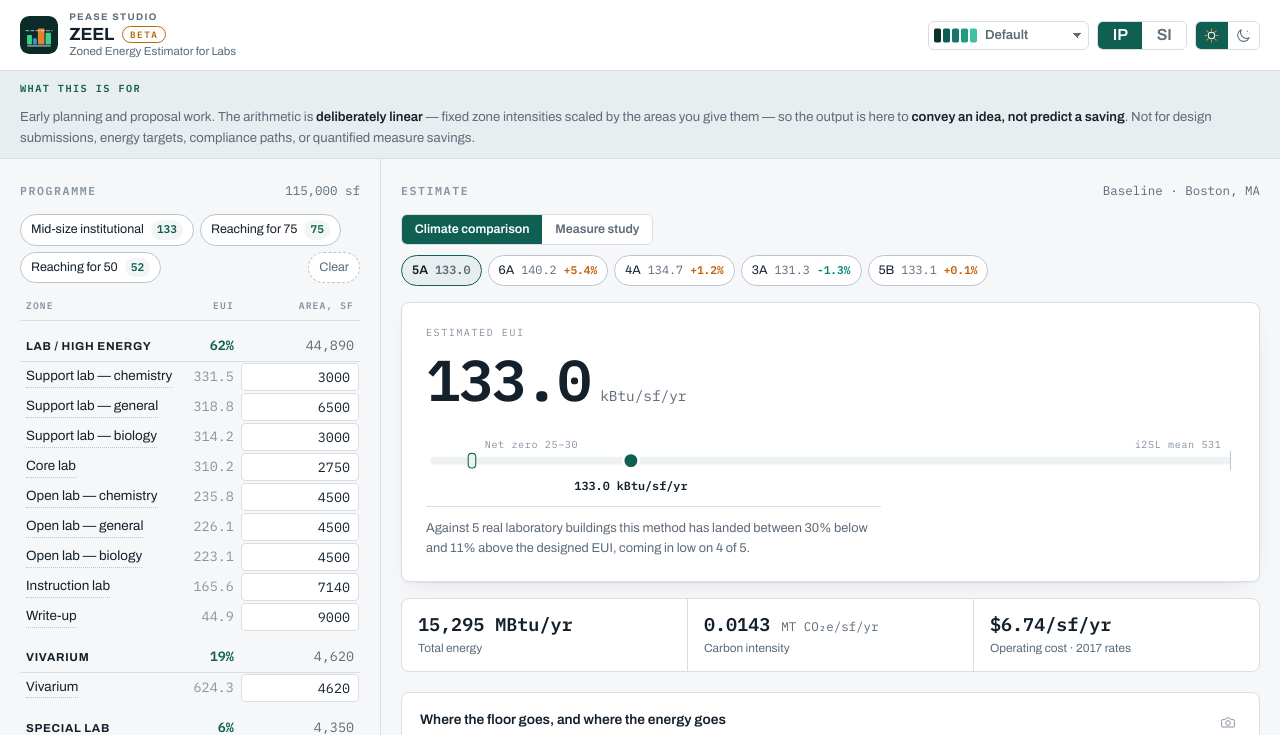
it: the worked examples › clears to an empty programme without dividing by zero
Click the button "Clear" at {"x": 334, "y": 267}, box [308, 252, 360, 283]
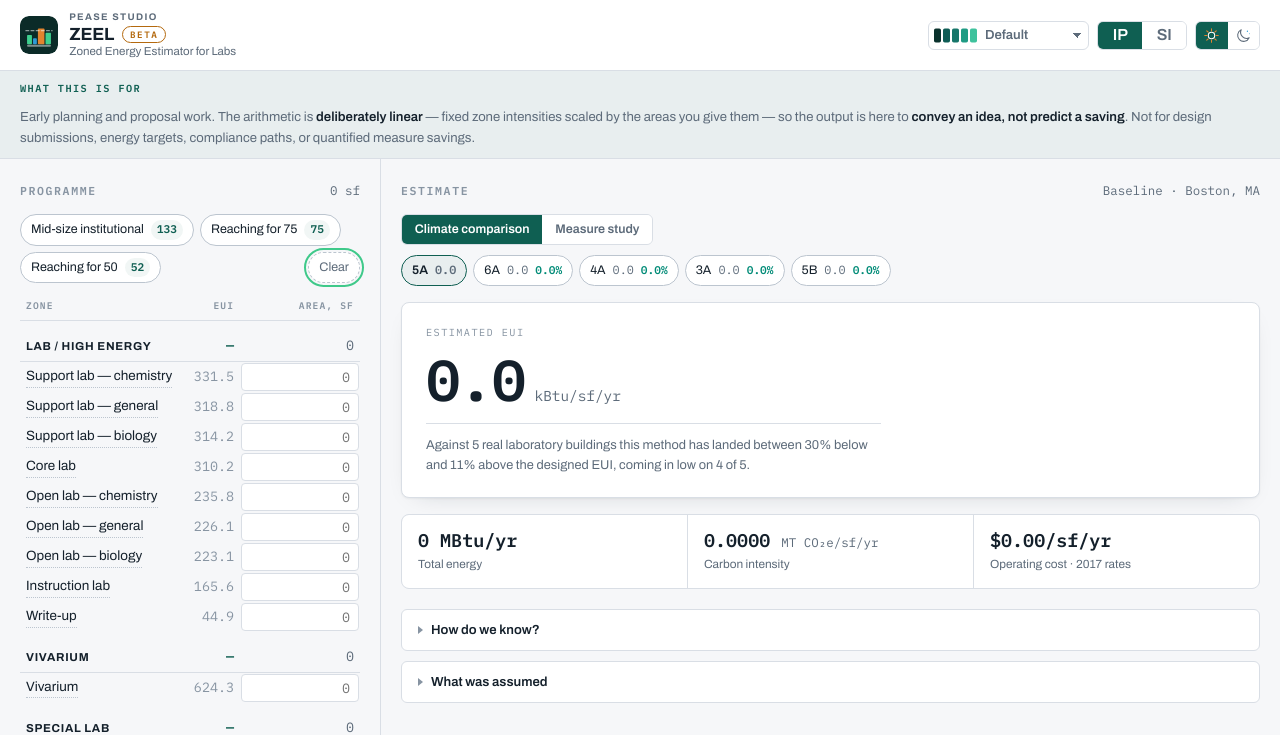
Now the element with class "headline__value" shows "0.0", box [426, 342, 524, 417]
